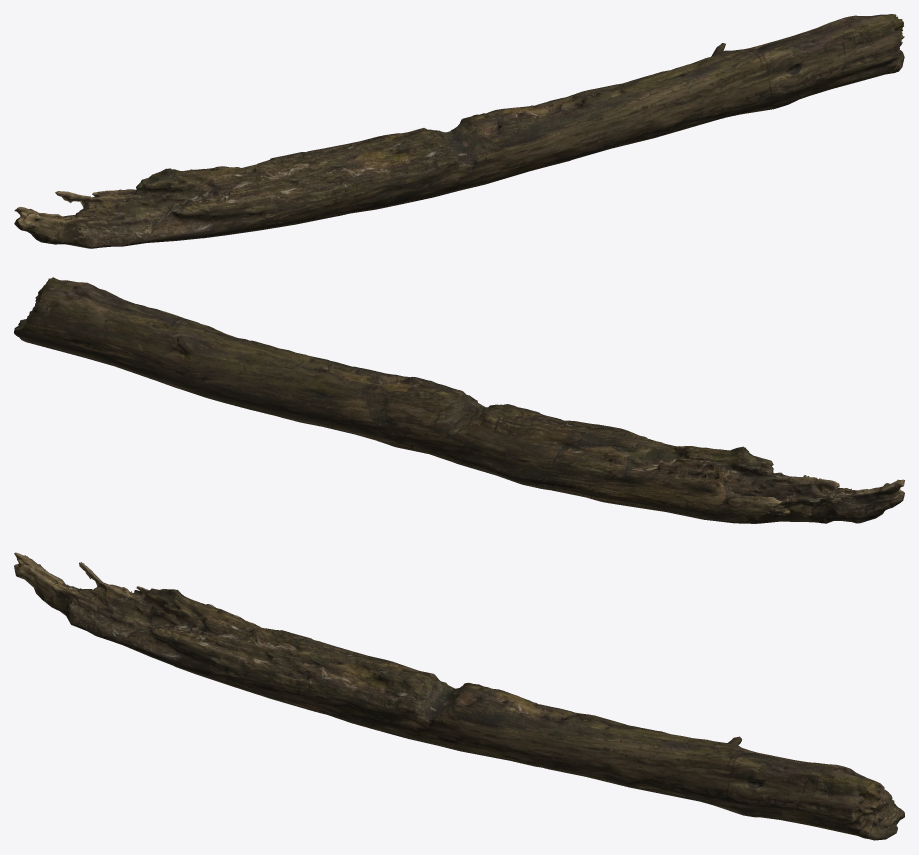
The model's file is log.glb.
The picture shows the model from 3 angles, top to bottom: view 1: azimuth 30°, elevation 25°; view 2: azimuth 150°, elevation 25°; view 3: azimuth 330°, elevation 25°; orthographic projection.
Parts seen in each view (by area): view 1: dead_tree_trunk; view 2: dead_tree_trunk; view 3: dead_tree_trunk.
Part boxes in pixels (left/top/right/bottom): dead_tree_trunk: left=14, top=14, right=904, bottom=248; dead_tree_trunk: left=14, top=277, right=904, bottom=523; dead_tree_trunk: left=14, top=552, right=904, bottom=840.
Bounding box in the file's own units: 3.05 × 0.2898 × 0.2771.
1 material, 1 textured.
